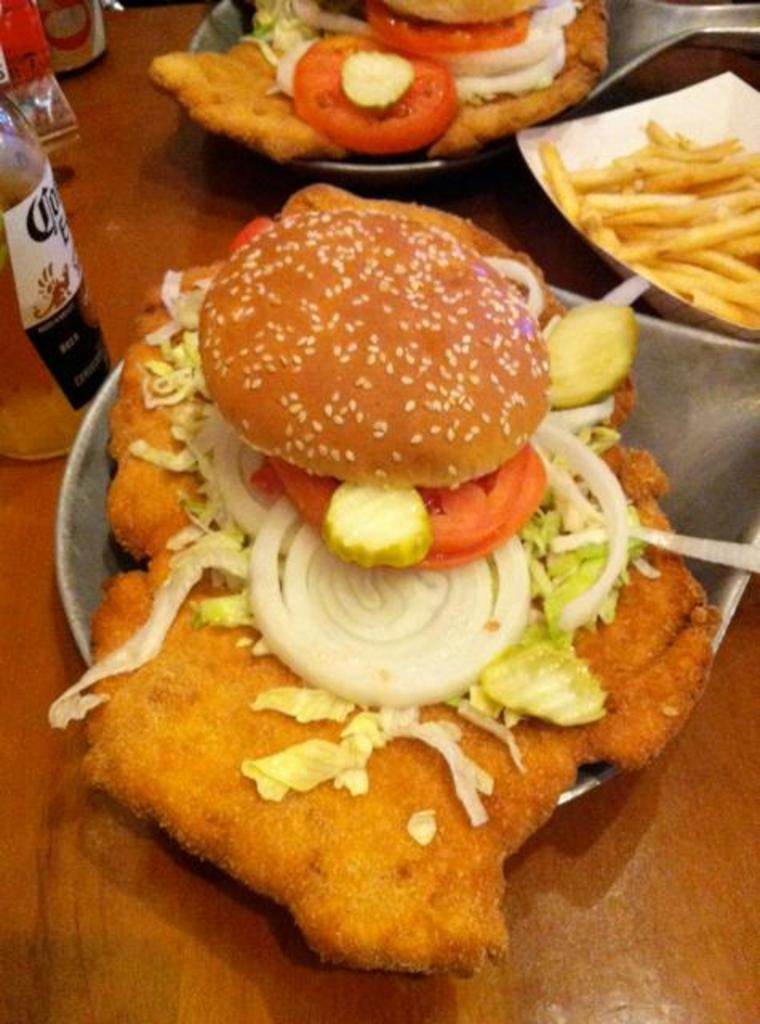French fries: (542, 120, 758, 323)
